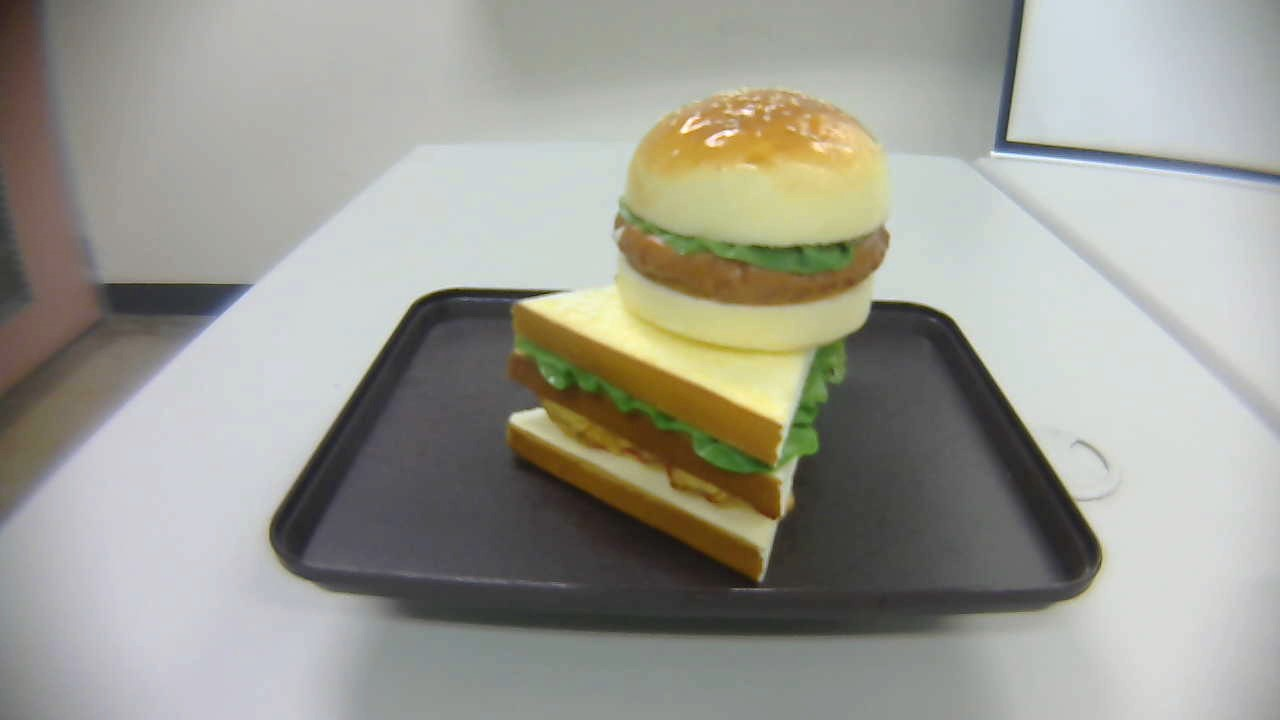hamburger: (613, 86, 889, 349)
sandwich: (507, 272, 848, 583)
